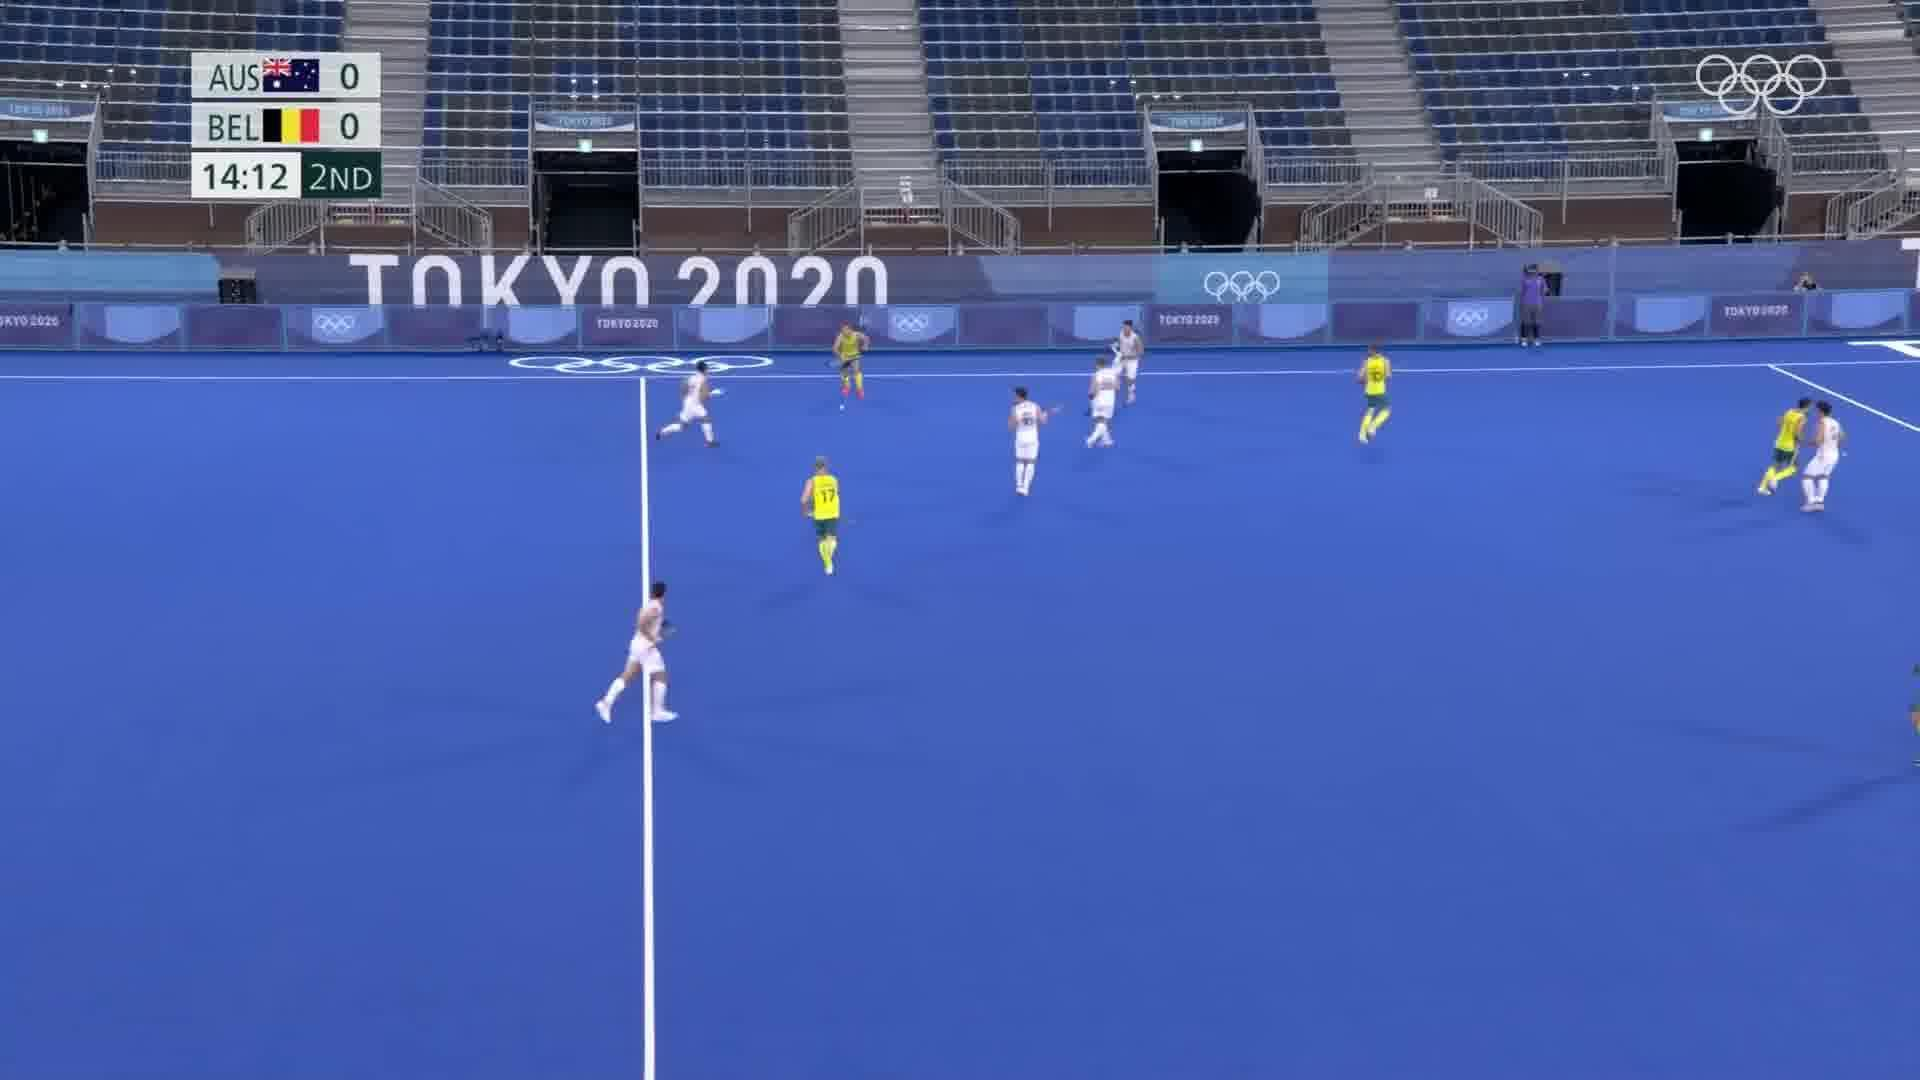ball: (835, 400, 848, 411)
